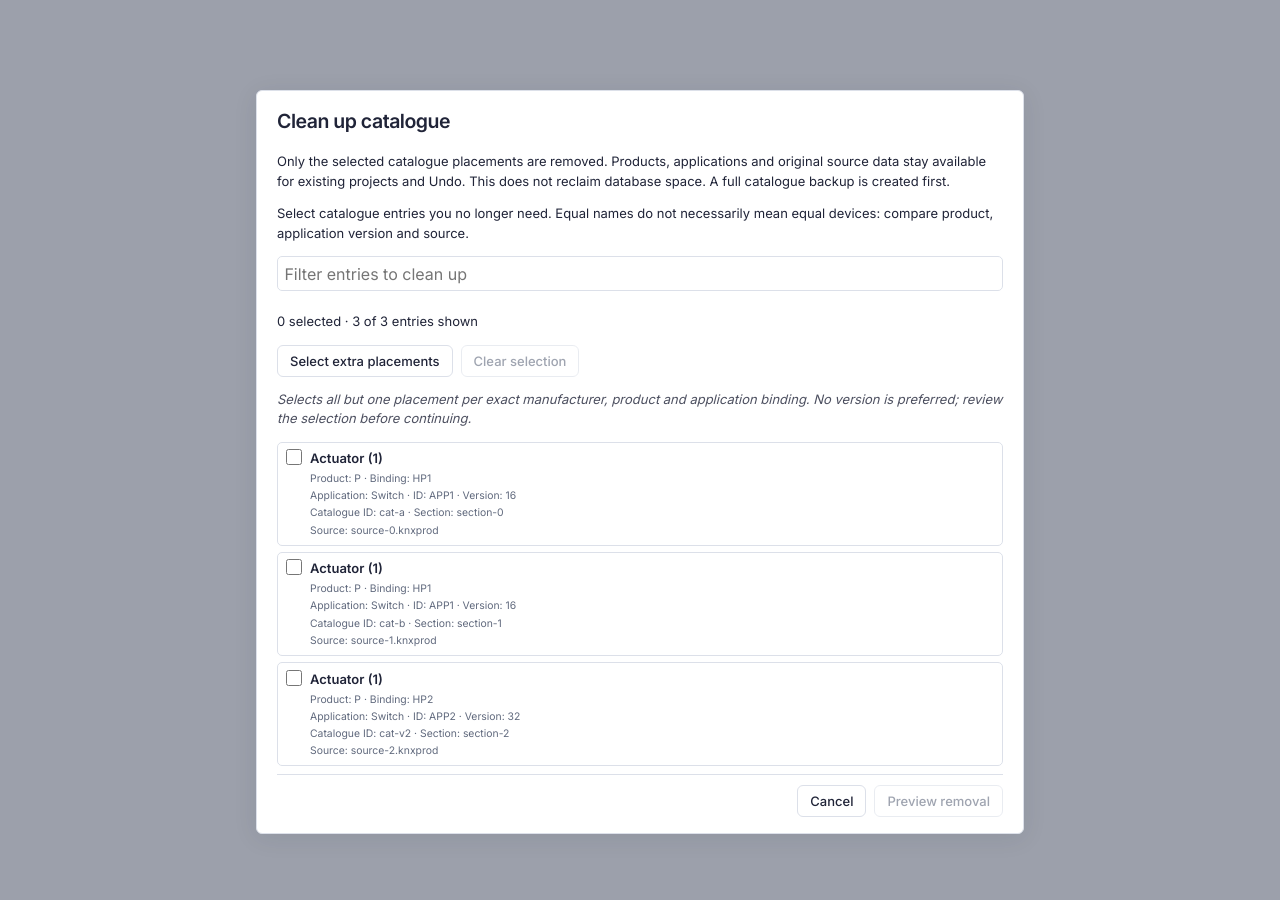
Test: CatalogCleanupDialog › warns before removing the last placement of a binding that open-project devices use
This screenshot has width=1280, height=900.
Click the 3rd checkbox. click: (294, 678)
box: [286,670,302,686]
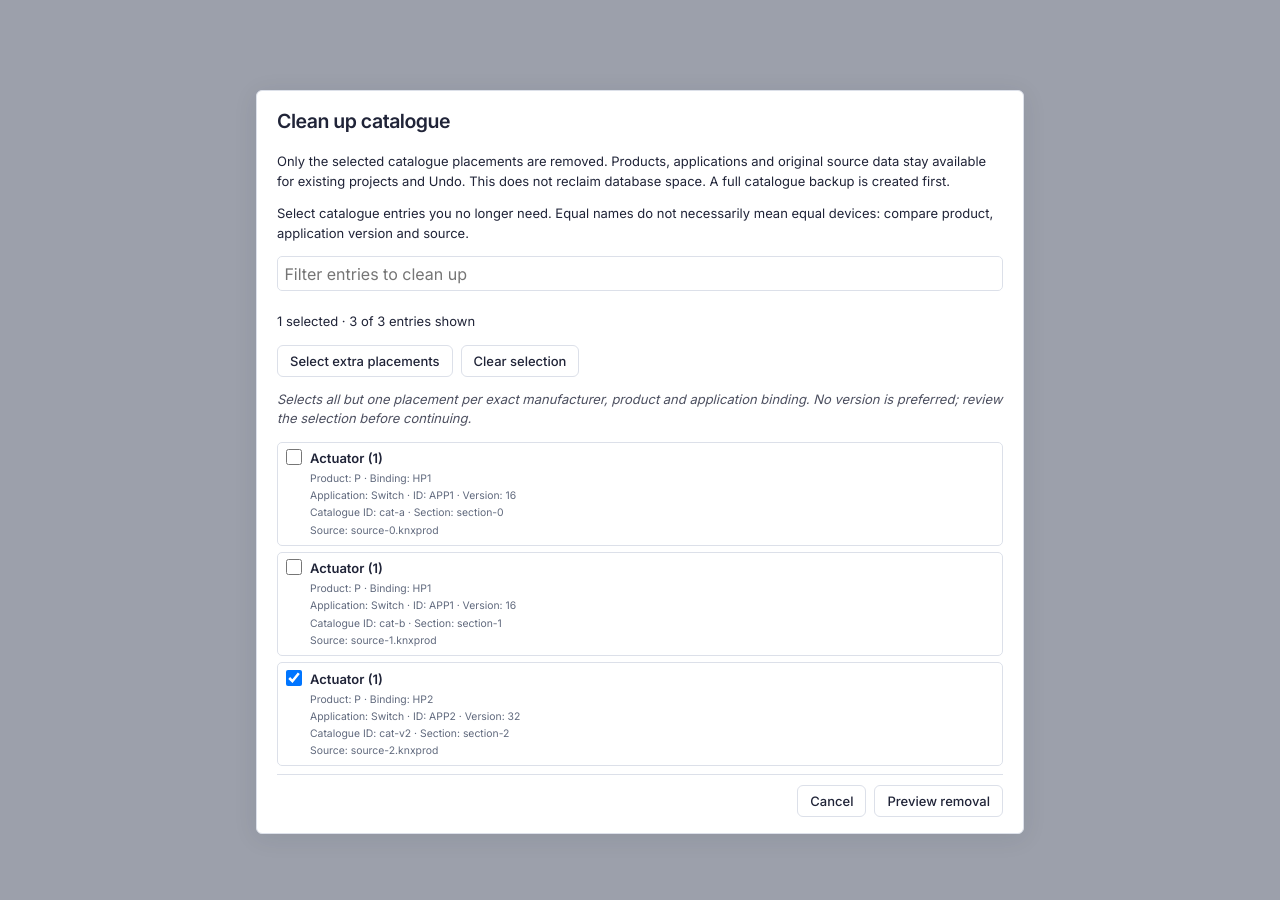
Click the 2nd checkbox. click: (294, 567)
box: [286,559,302,575]
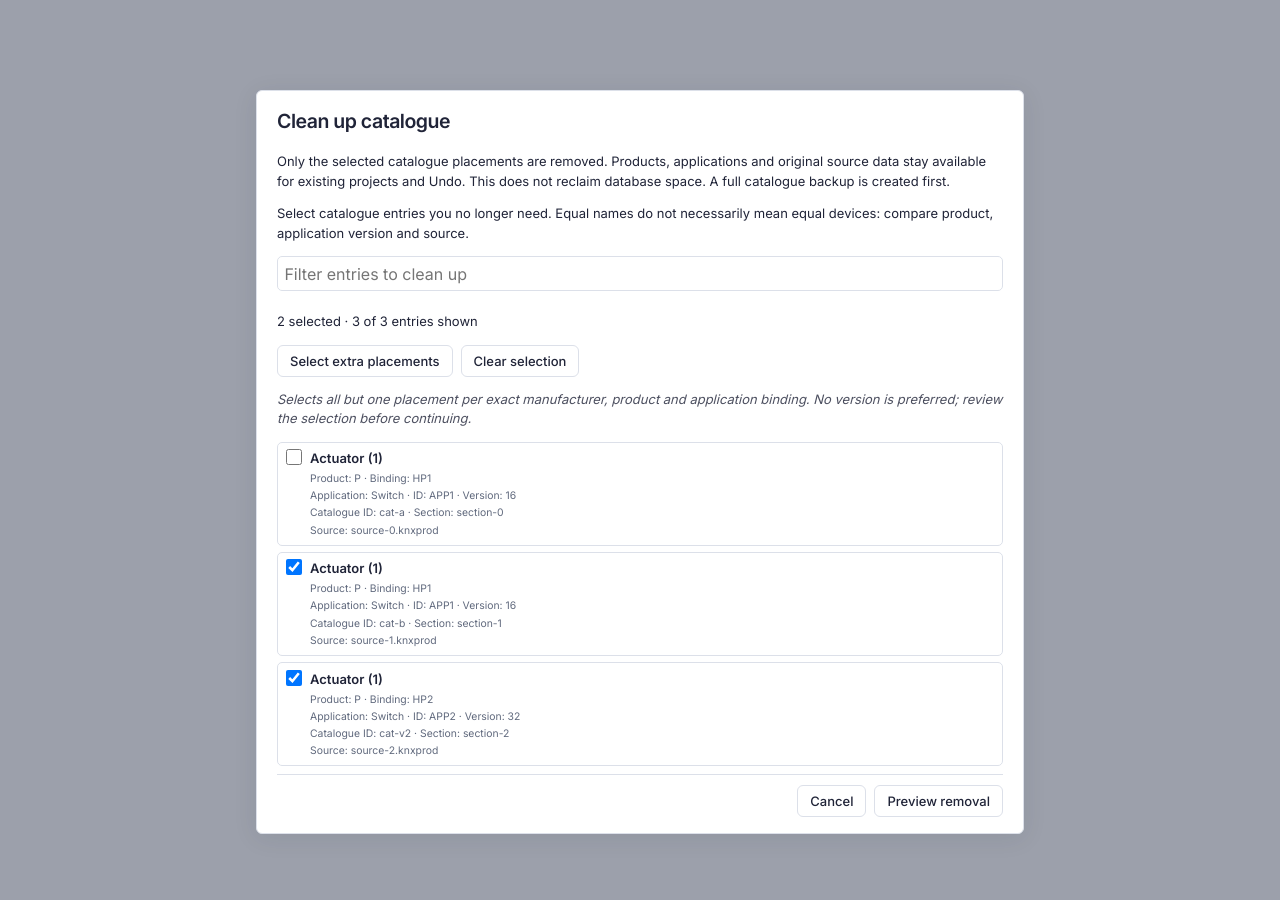
Click the button "Preview removal". click: (939, 801)
box: [874,785,1003,817]
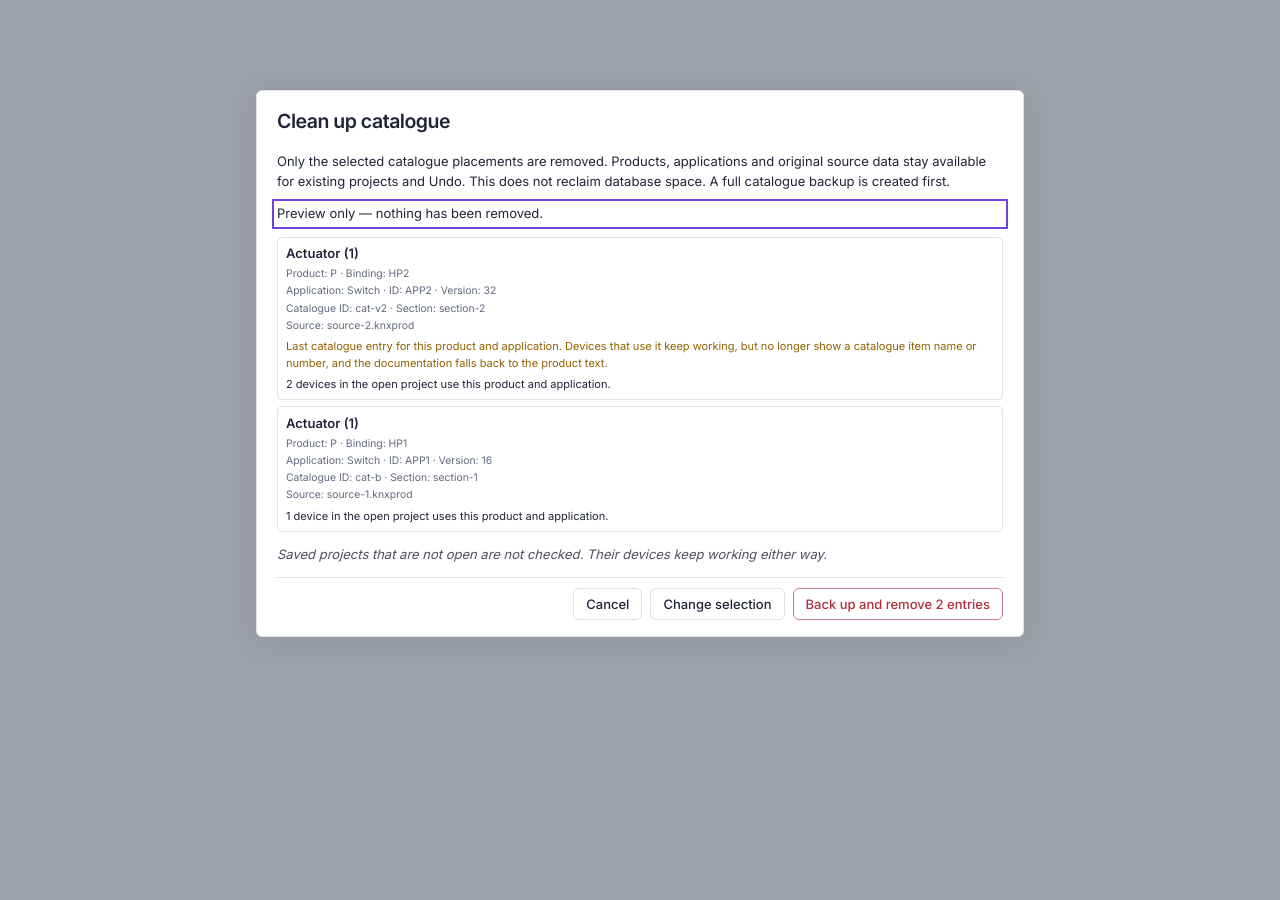
Expected: the 1st list item shows "Last catalogue entry", [286,339,976,370]
Expected: the 1st list item shows "2 devices in the open project", [286,377,611,391]
Expected: the 2nd list item shows "1 device in the open project", [286,509,608,523]
